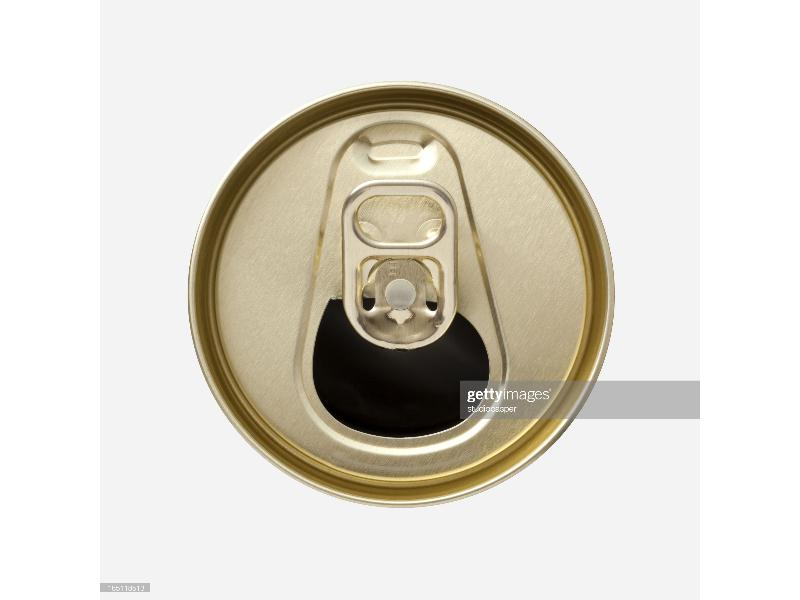can: (189, 65, 617, 534)
